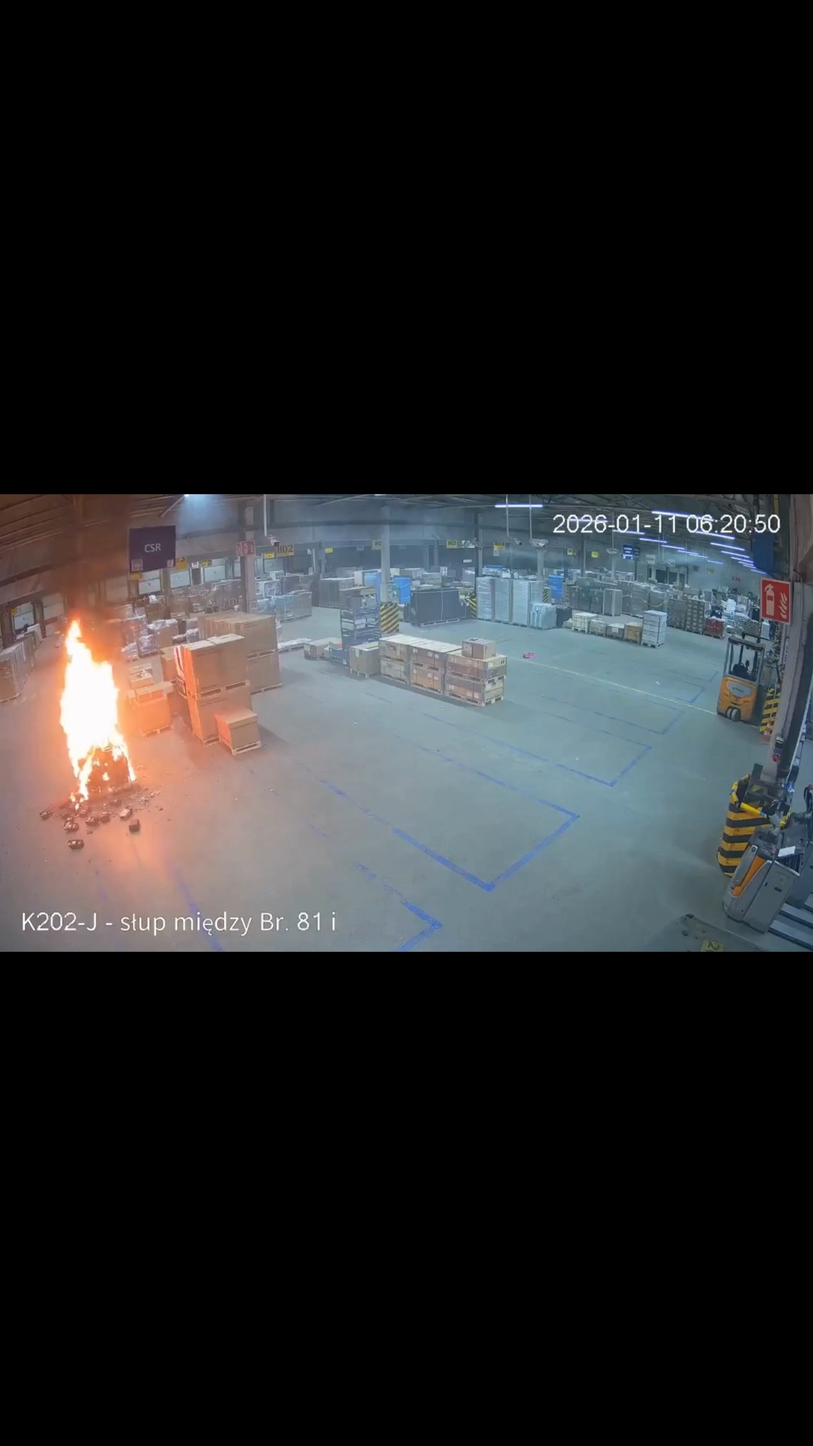fire: (58, 617, 137, 810)
smoke: (29, 498, 160, 642)
